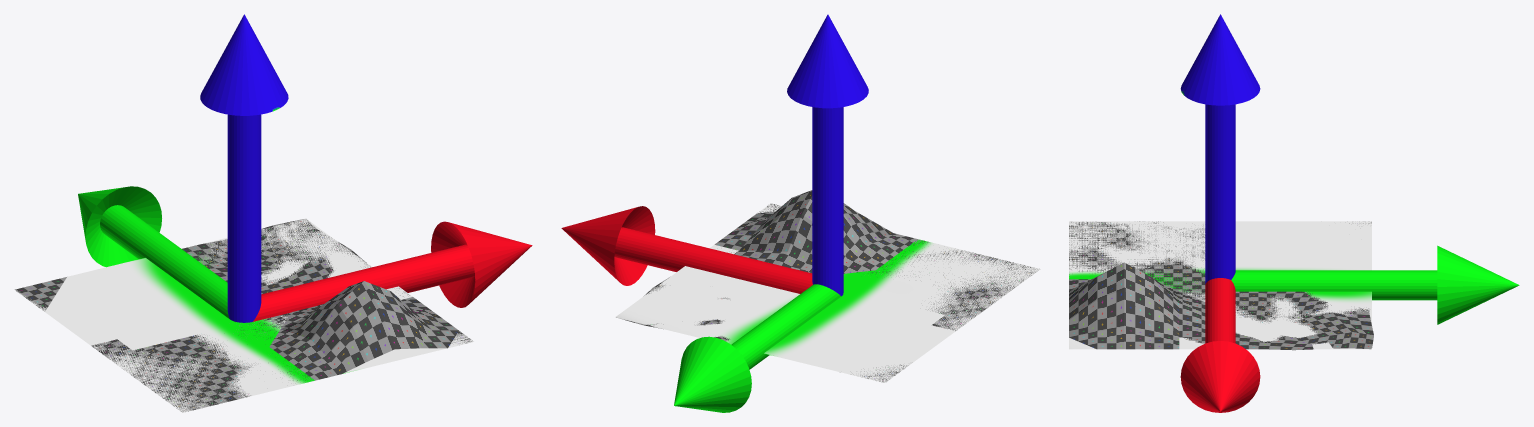
The picture shows the model from 3 angles, left to right: view 1: azimuth 30°, elevation 25°; view 2: azimuth 150°, elevation 25°; view 3: azimuth 270°, elevation 25°; orthographic projection. The views are drawn at different scales.
Parts seen in each view (by area): view 1: Axis, NormalsTest, UVTest; view 2: NormalsTest, Axis, UVTest; view 3: Axis, UVTest, NormalsTest.
Boxes of the visible parts, <box> form: Axis: <box>78,14,532,322</box>; NormalsTest: <box>15,218,473,412</box>; UVTest: <box>15,219,472,412</box>; NormalsTest: <box>615,203,1040,382</box>; Axis: <box>561,14,868,412</box>; UVTest: <box>616,190,1039,382</box>; Axis: <box>1180,14,1519,412</box>; UVTest: <box>1069,221,1373,350</box>; NormalsTest: <box>1069,221,1371,349</box>.
Bounding box in the file's own units: 298 × 225 × 298.
Materials: 3 (3 with a texture image).
